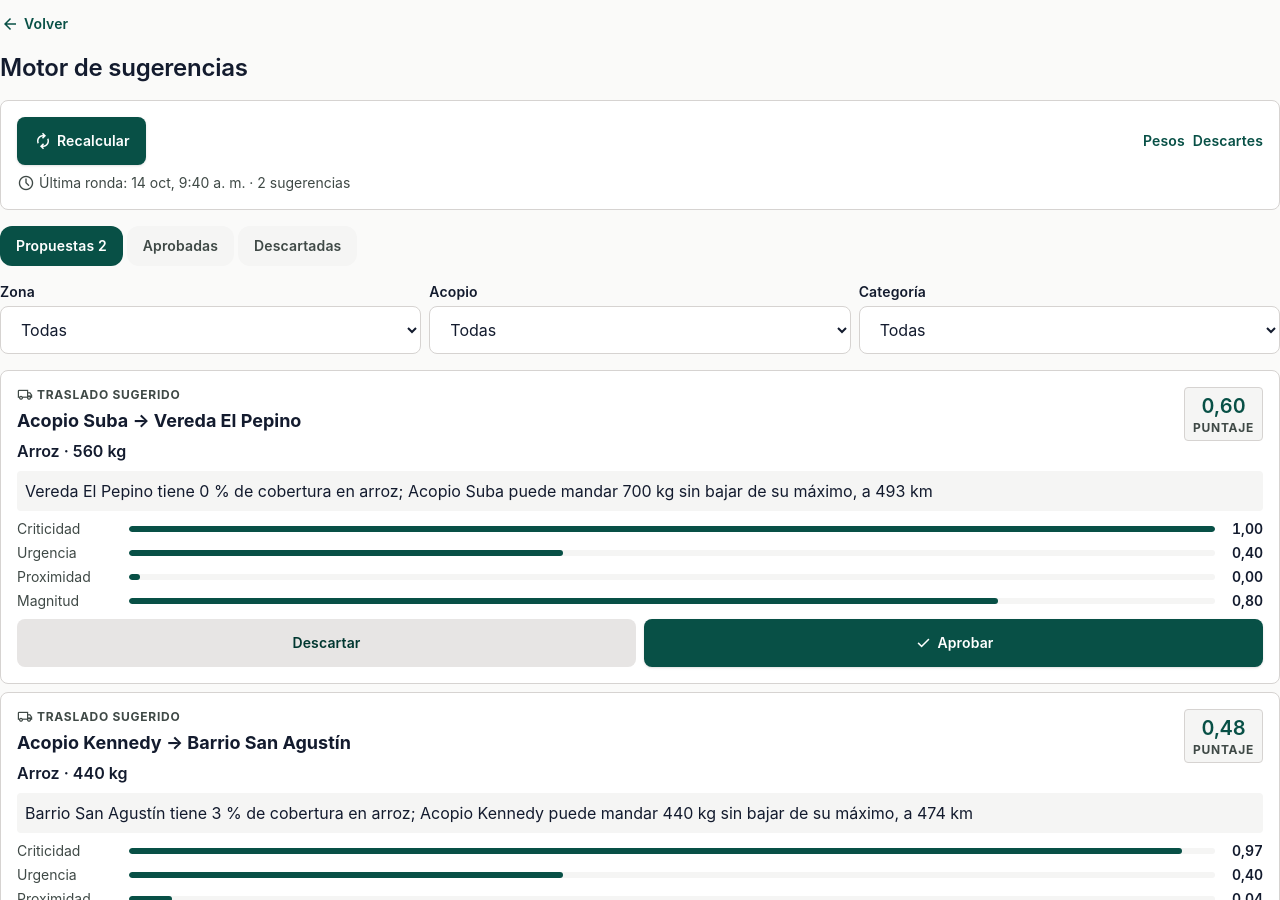
aprobar con la cantidad editada crea la remisión y lo dice
Expected: the text "Vereda El Pepino tiene 0 %" is shown, [25,481,933,501]
Click the button "Aprobar" at (954, 643), box [644,619,1263,667]
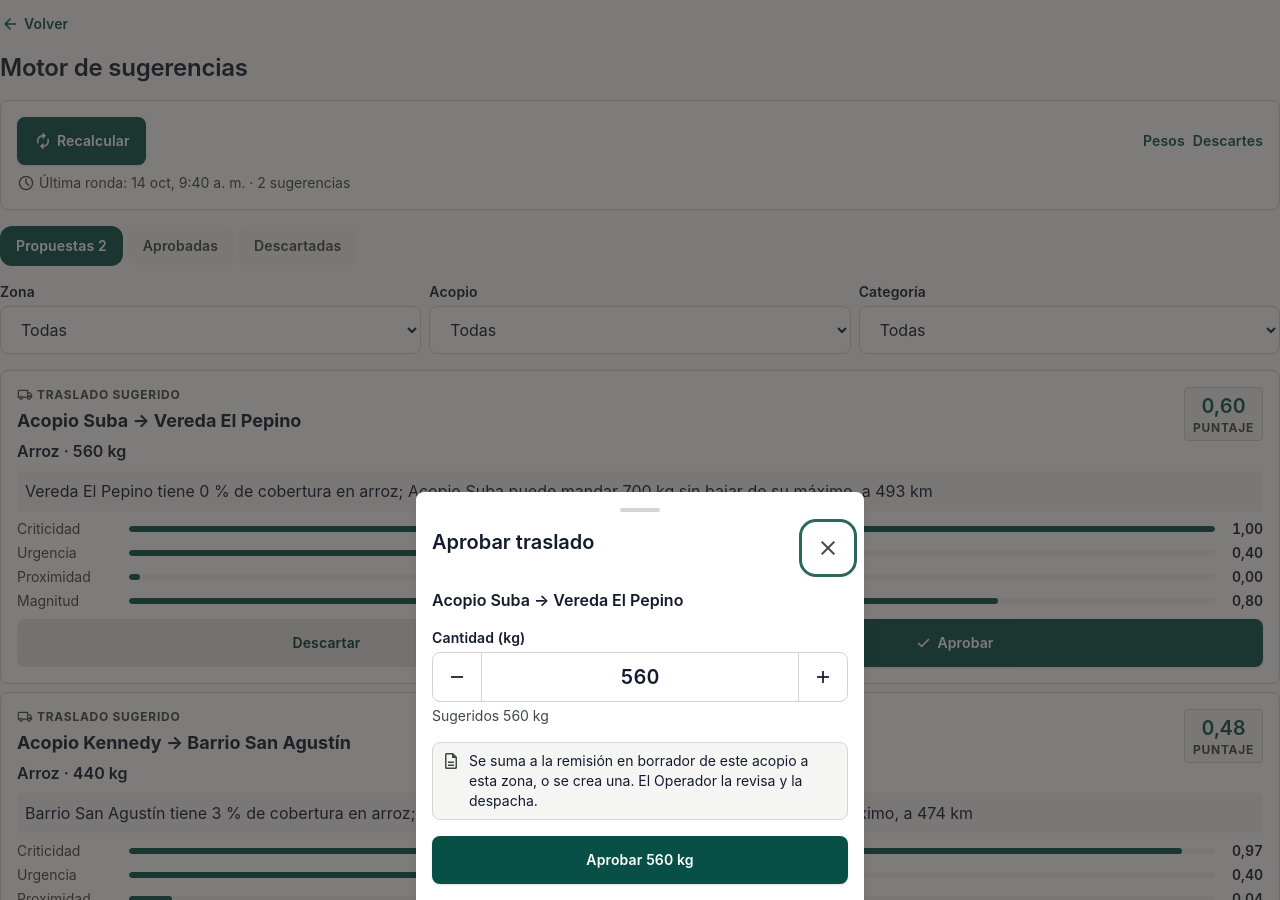
Now the dialog "Aprobar traslado" shows "Sugeridos 560 kg", box [416,492,864,899]
Replace the text in the field labelled "Cantidad (kg)" with "500" at (640, 677), box [481,653,799,701]
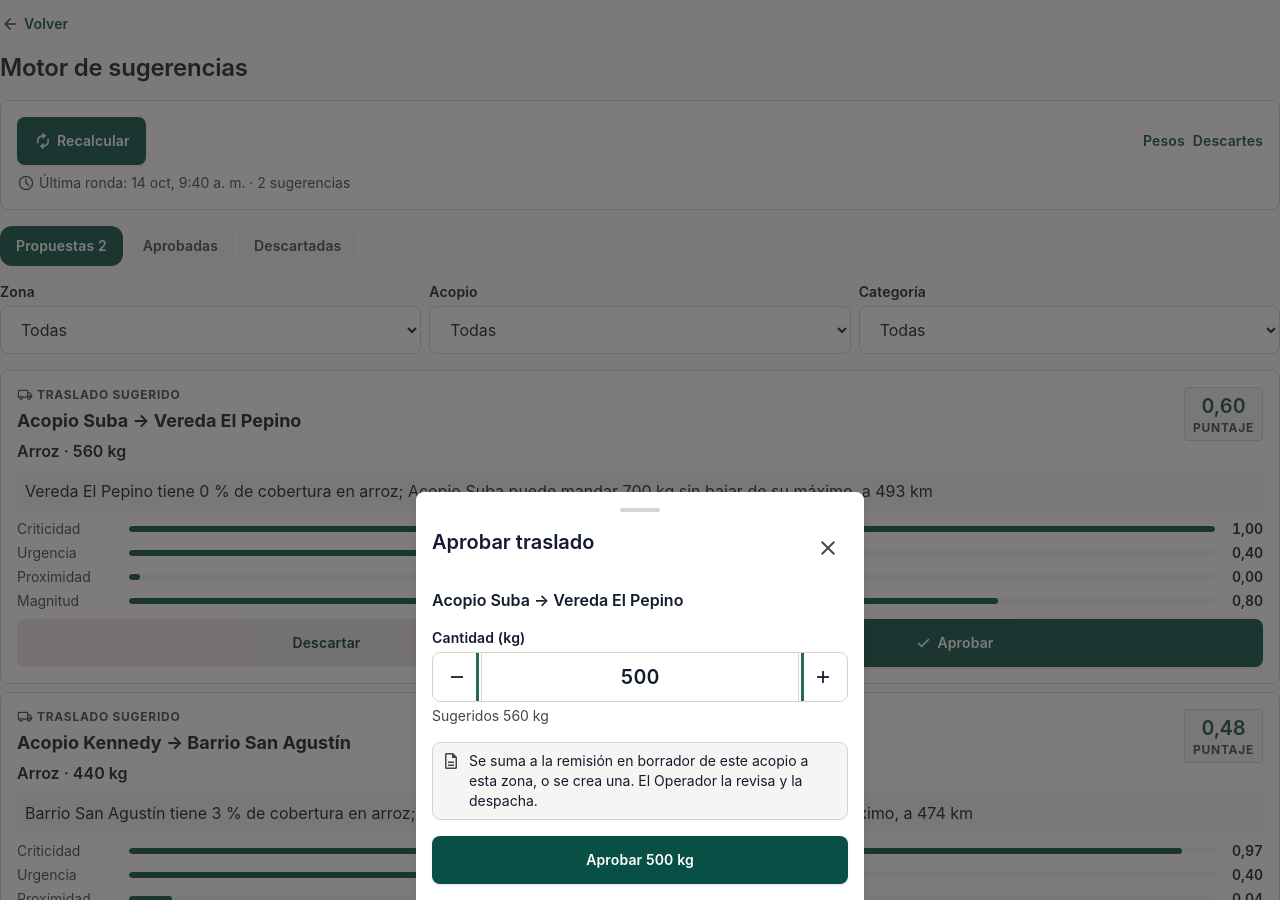
Click the button "Aprobar 500 kg" at (640, 860), box [432,836,848,884]
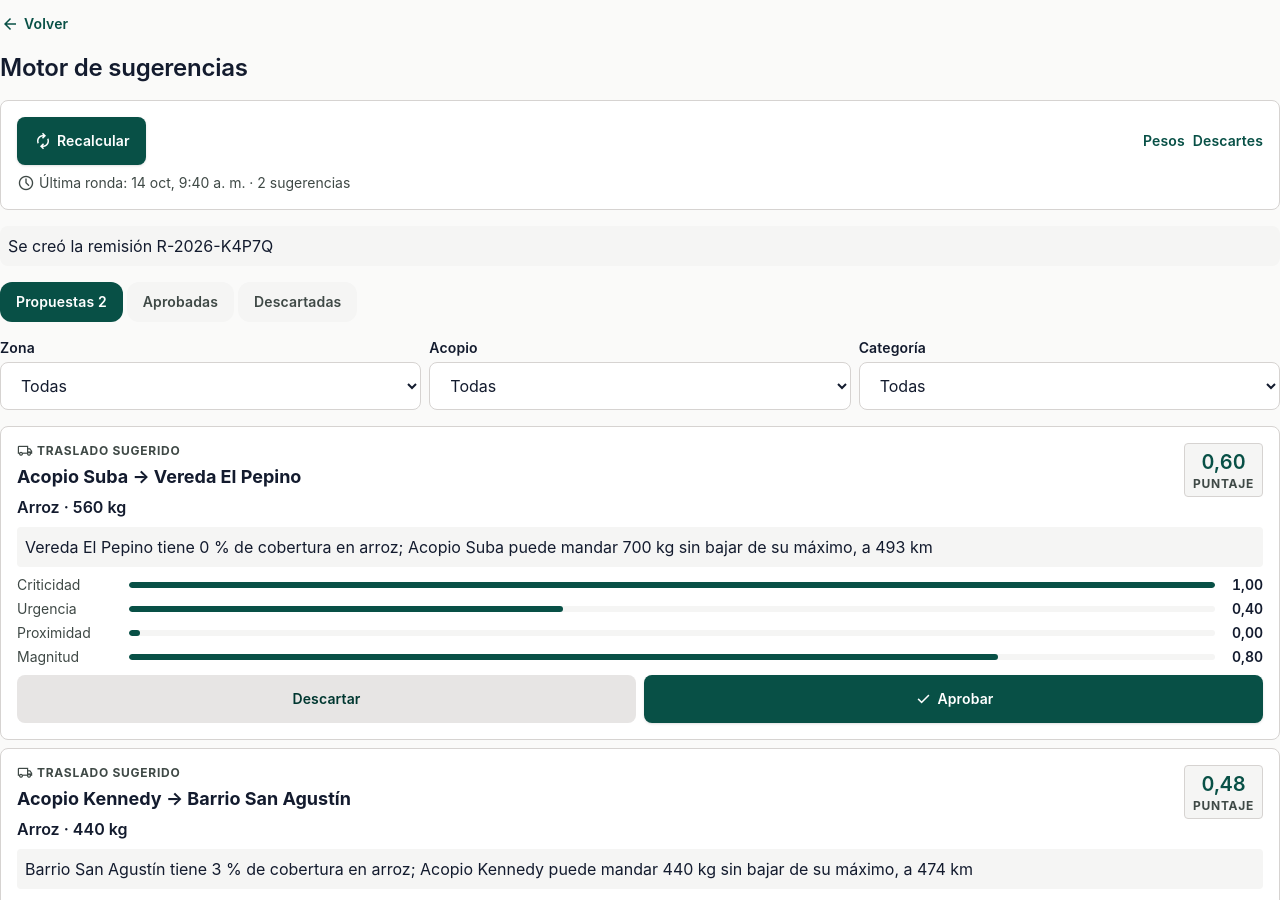
Now the text "Se creó la remisión R-2026-K4P7Q" is shown, box [0,226,1279,266]
Now the dialog is gone
